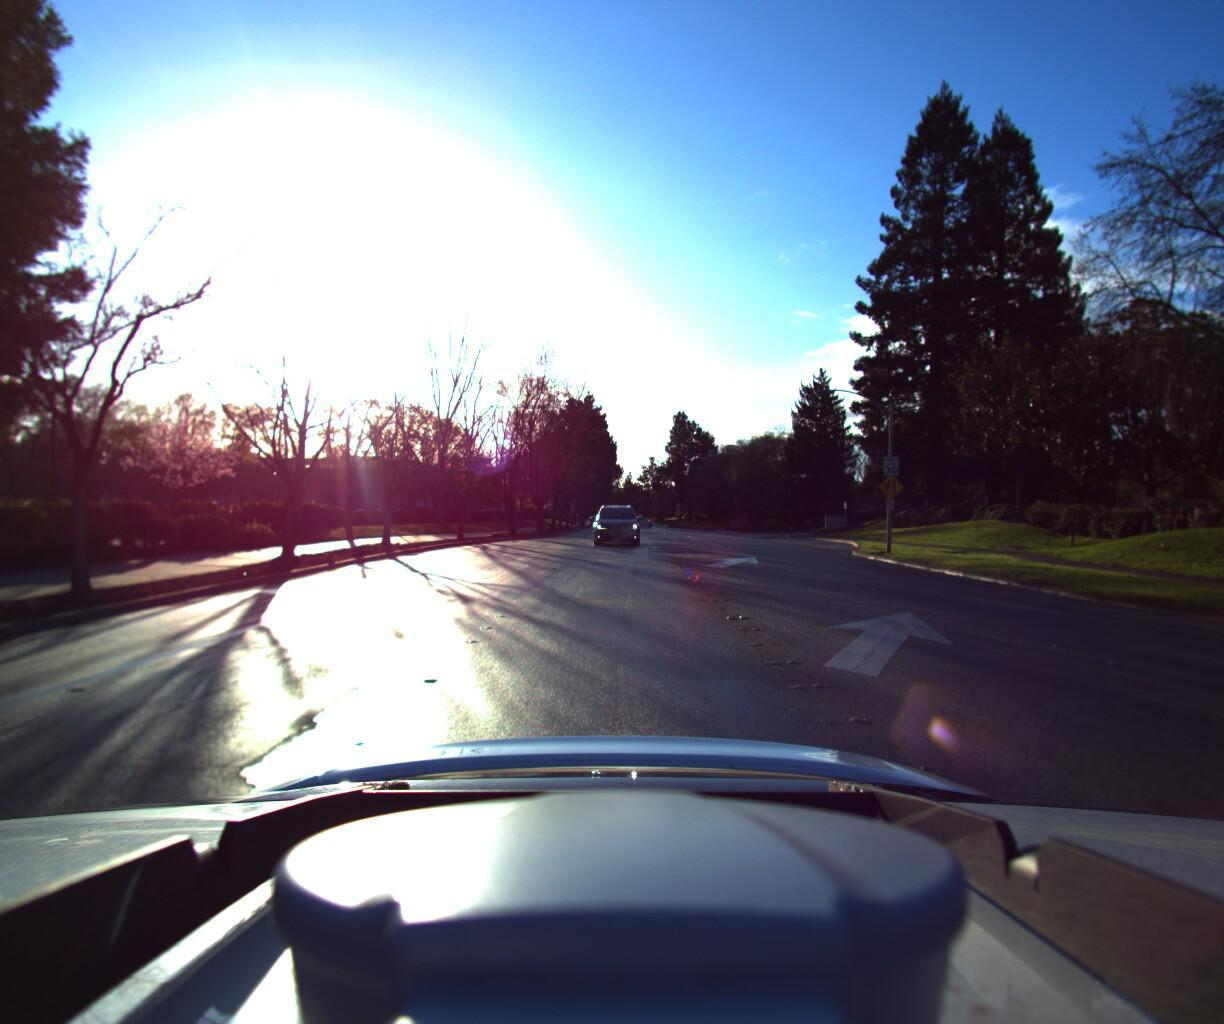car: (590, 500, 638, 545)
